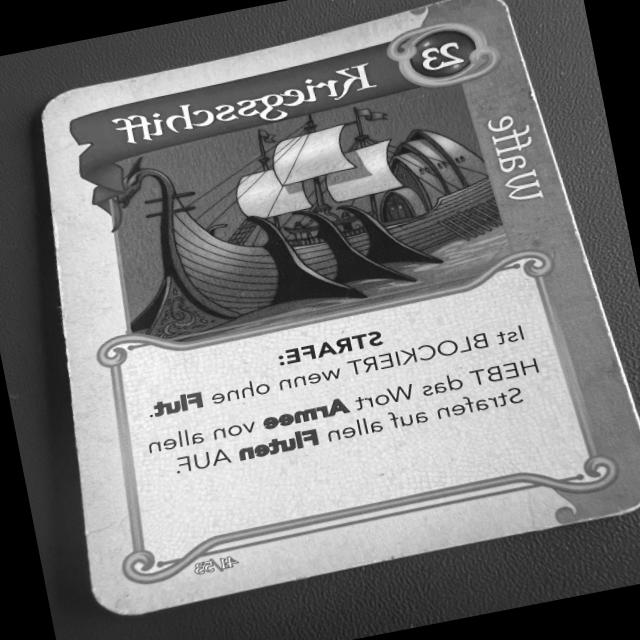Warship: (25, 0, 640, 619)
